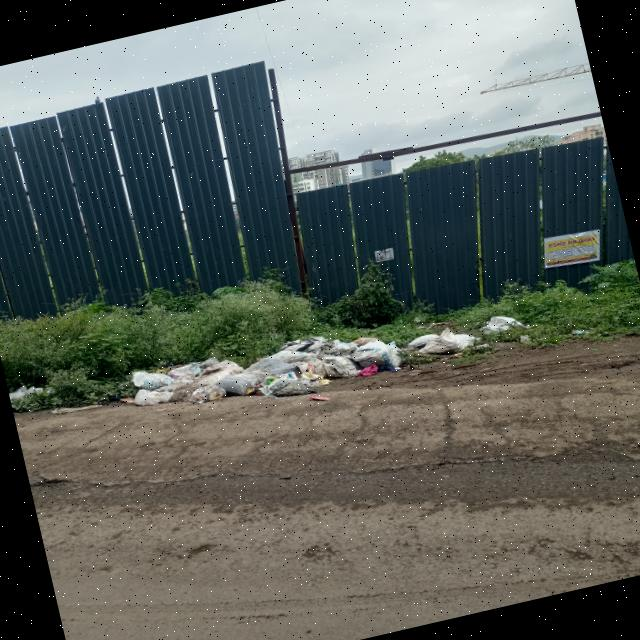garbage: (111, 292, 482, 429)
